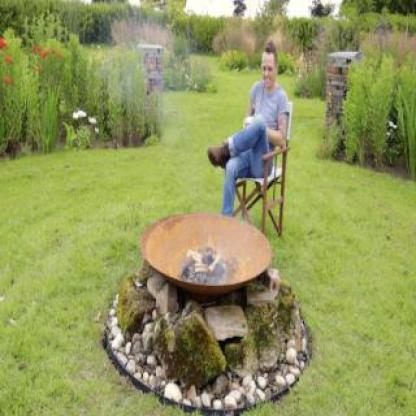fire: (188, 238, 219, 281)
